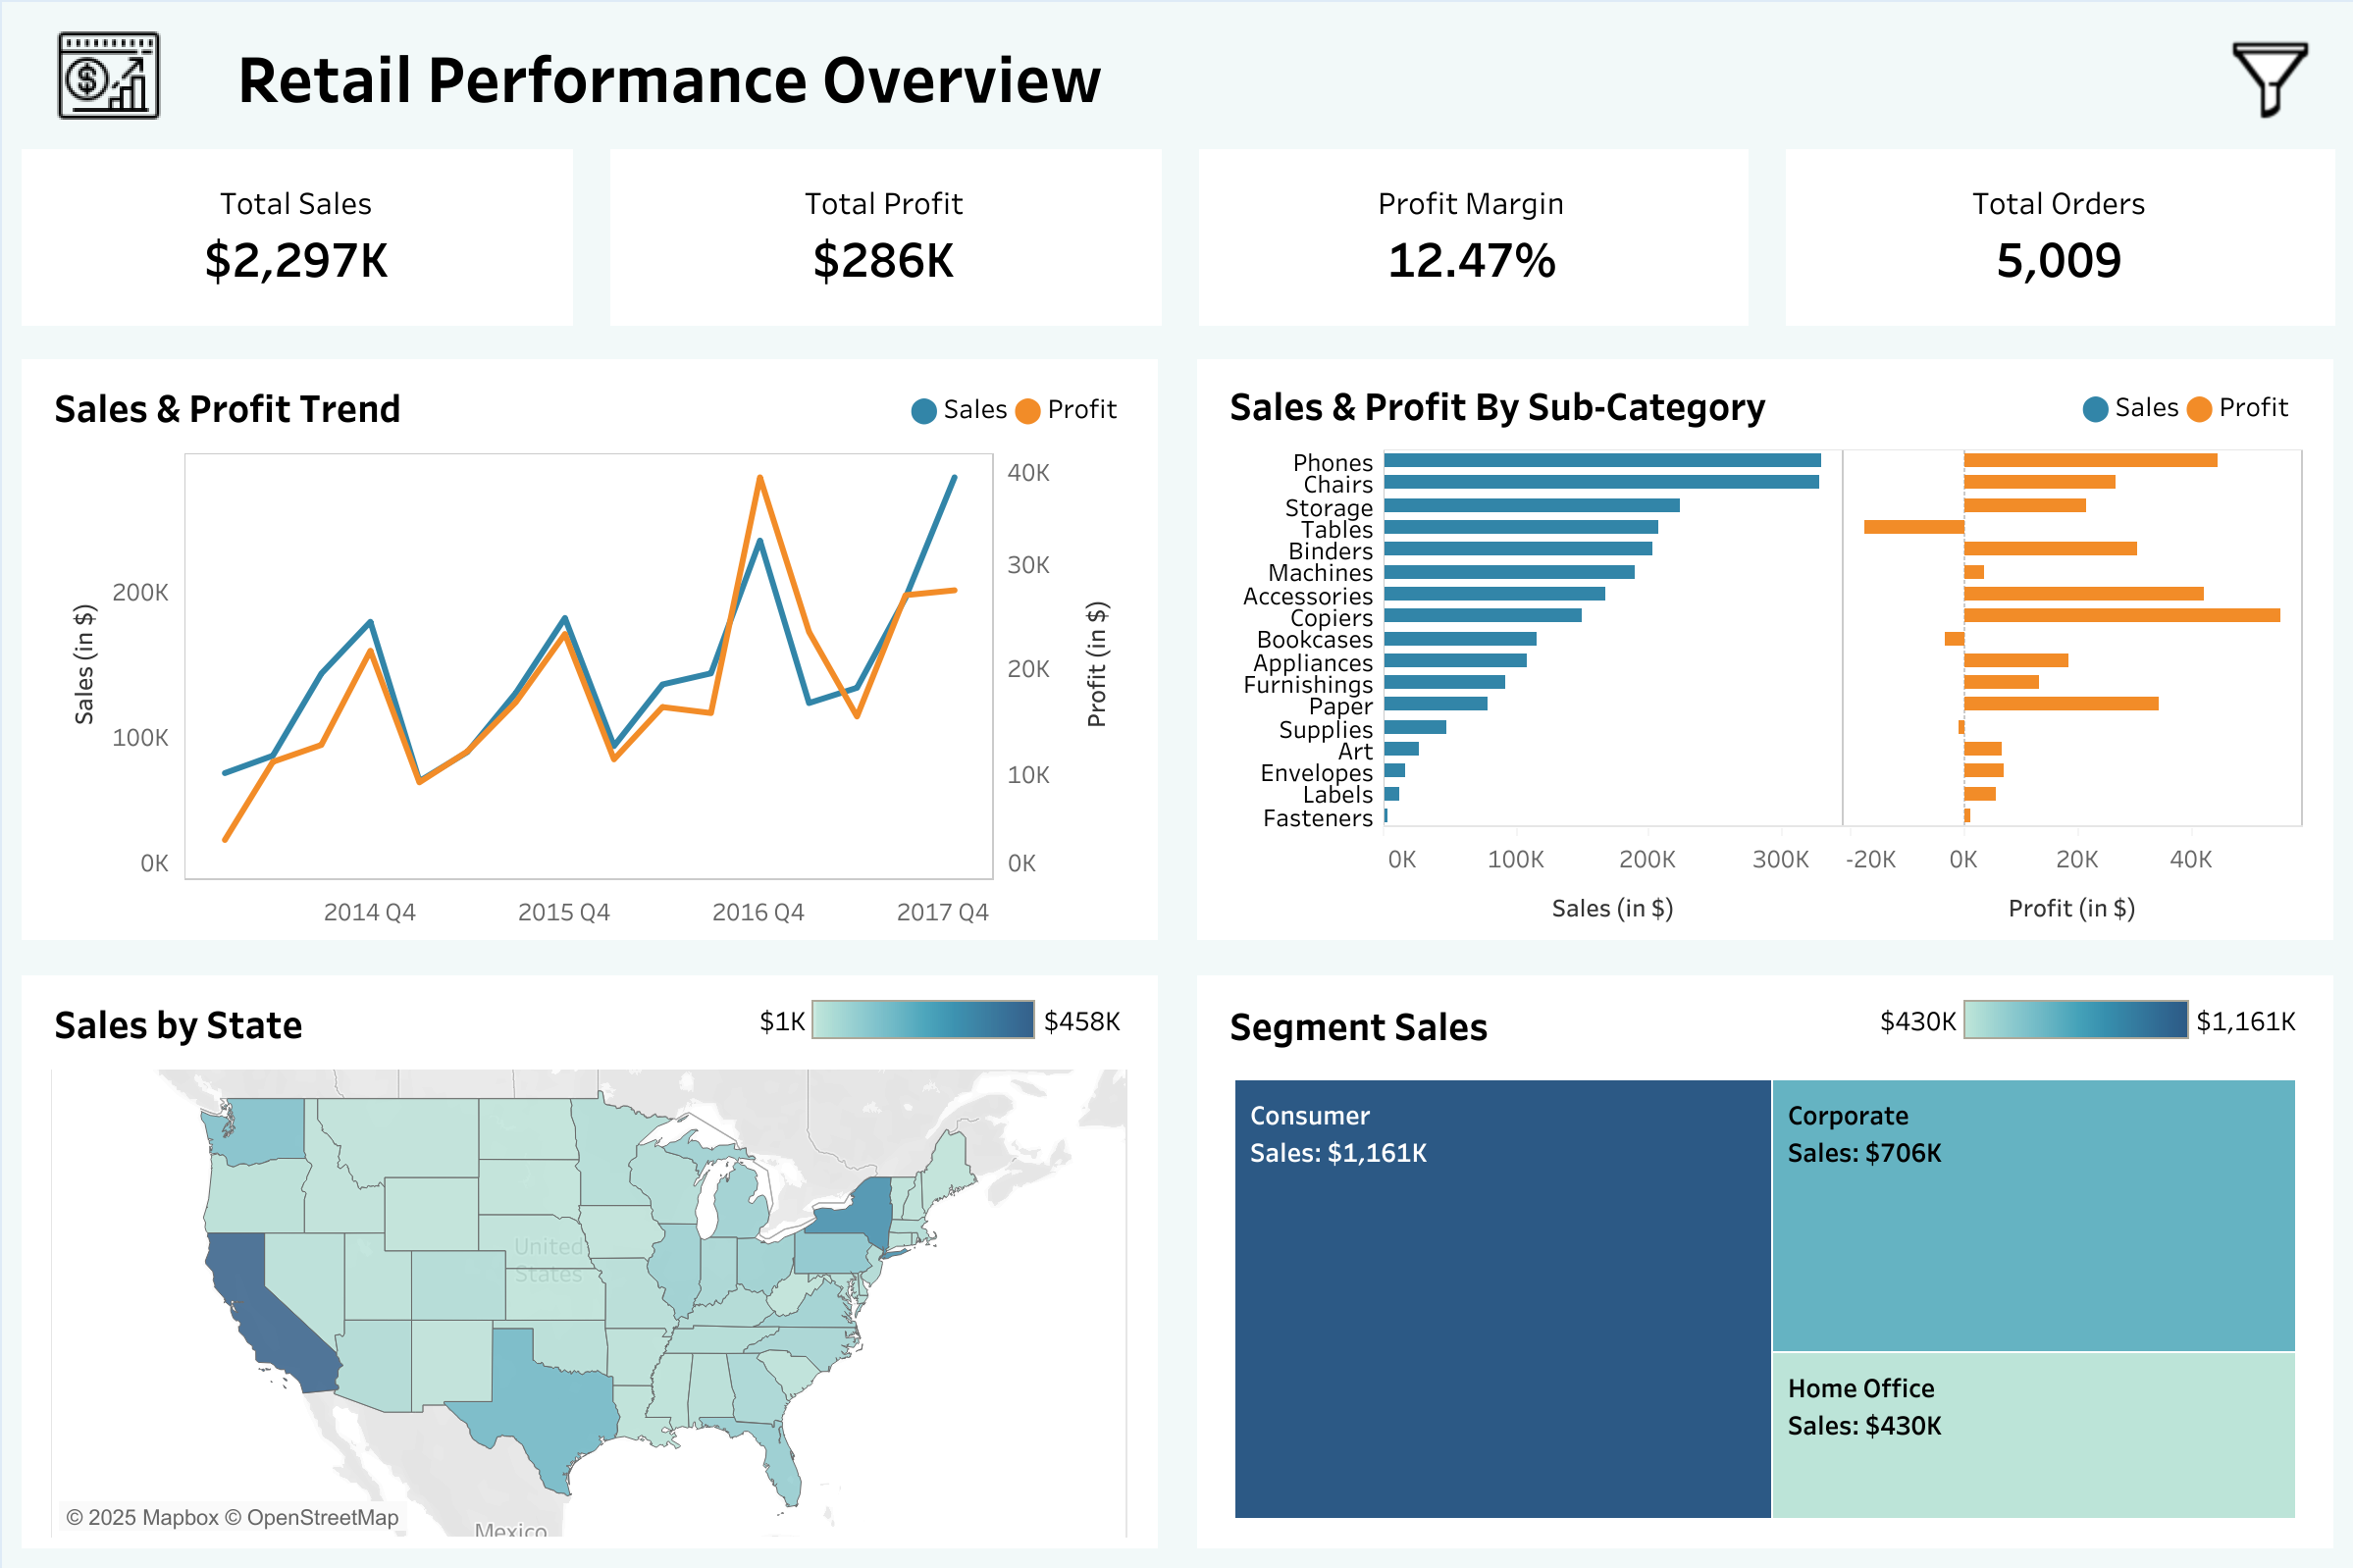

Layout of this report page (visuals, bound fields, positions):
{"tool":"tableau","page":{"name":"Retail Dashboard","canvas":[1200,800],"ordinal":0},"visuals":[{"type":"image","param":"/Users/karishmasultania/Projects/superstore_sales_analysis/icon-sales.png","box":[1,1,110,75]},{"type":"text","box":[111,1,1088,75]},{"type":"blank","box":[928,14,261,72]},{"type":"dashboard-object","box":[1129,16,57,46]},{"type":"worksheet","title":"Sales KPI","mark":"Automatic","box":[1,76,300,99]},{"type":"worksheet","title":"Profit KPI","mark":"Automatic","box":[301,76,300,99]},{"type":"worksheet","title":"Profit Margin KPI","mark":"Automatic","box":[601,76,299,99]},{"type":"worksheet","title":"Orders KPI","mark":"Automatic","box":[900,76,299,99]},{"type":"text","box":[928,86,261,90]},{"type":"parameter","param":"[Parameters].[Parameter 2]","box":[928,176,261,90]},{"type":"text","box":[21,188,436,38]},{"type":"text","box":[457,188,123,38]},{"type":"text","box":[620,188,434,36]},{"type":"text","box":[1054,188,125,36]},{"type":"worksheet","title":"Sales & Profit by Sub-Category","mark":"Bar","rows":["Sub-Category"],"cols":["Sales","Profit"],"box":[615,229,569,249.9]},{"type":"worksheet","title":"Sales & Profit Trend","mark":"Automatic","rows":["Sales","Profit"],"cols":["Order Date"],"box":[16,231,569,248]},{"type":"parameter","param":"[Parameters].[Parameter 3]","box":[928,266,261,117]},{"type":"filter","title":"Sales & Profit Trend","param":"[federated.02qu19u0oizx4i15oifct00g9fb3].[none:Region:nk]","box":[928,383,261,65]},{"type":"filter","title":"Sales & Profit Trend","param":"[federated.02qu19u0oizx4i15oifct00g9fb3].[none:Category:nk]","box":[928,448,261,68]},{"type":"text","box":[21,502,358,38]},{"type":"legend","title":"Sales by State","param":"[federated.02qu19u0oizx4i15oifct00g9fb3].[sum:Sales:qk]","box":[379,502,201,38]},{"type":"text","box":[620,502,330,39]},{"type":"legend","title":"Segment Sales","param":"[federated.02qu19u0oizx4i15oifct00g9fb3].[sum:Sales:qk]","box":[950,502,229,39]},{"type":"filter","title":"Sales & Profit Trend","param":"[federated.02qu19u0oizx4i15oifct00g9fb3].[yr:Order Date:ok]","box":[928,516,261,86]},{"type":"worksheet","title":"Sales by State","mark":"Automatic","box":[16,540,569,249]},{"type":"worksheet","title":"Segment Sales","mark":"Automatic","box":[615,541,569,243]}]}

Visuals, with their boxes in screenshot pixels (x1, y1, x2, y2), scaled from the page's 1200x800 canvas onto the 2353x1568 screenshot:
image: detection(2, 2, 218, 149)
text: detection(218, 2, 2351, 149)
blank: detection(1819, 27, 2331, 169)
dashboard-object: detection(2214, 31, 2326, 122)
"Sales KPI" worksheet: detection(2, 149, 590, 343)
"Profit KPI" worksheet: detection(590, 149, 1178, 343)
"Profit Margin KPI" worksheet: detection(1178, 149, 1764, 343)
"Orders KPI" worksheet: detection(1764, 149, 2351, 343)
text: detection(1819, 169, 2331, 345)
parameter: detection(1819, 345, 2331, 521)
text: detection(41, 369, 896, 443)
text: detection(896, 369, 1137, 443)
text: detection(1216, 369, 2066, 439)
text: detection(2066, 369, 2312, 439)
"Sales & Profit by Sub-Category" worksheet (Bar marks): detection(1206, 448, 2322, 939)
"Sales & Profit Trend" worksheet: detection(31, 452, 1147, 939)
parameter: detection(1819, 521, 2331, 751)
"Sales & Profit Trend" filter: detection(1819, 751, 2331, 878)
"Sales & Profit Trend" filter: detection(1819, 878, 2331, 1012)
text: detection(41, 984, 743, 1059)
"Sales by State" legend: detection(743, 984, 1137, 1059)
text: detection(1216, 984, 1862, 1061)
"Segment Sales" legend: detection(1862, 984, 2312, 1061)
"Sales & Profit Trend" filter: detection(1819, 1012, 2331, 1179)
"Sales by State" worksheet: detection(31, 1059, 1147, 1546)
"Segment Sales" worksheet: detection(1206, 1061, 2322, 1537)
